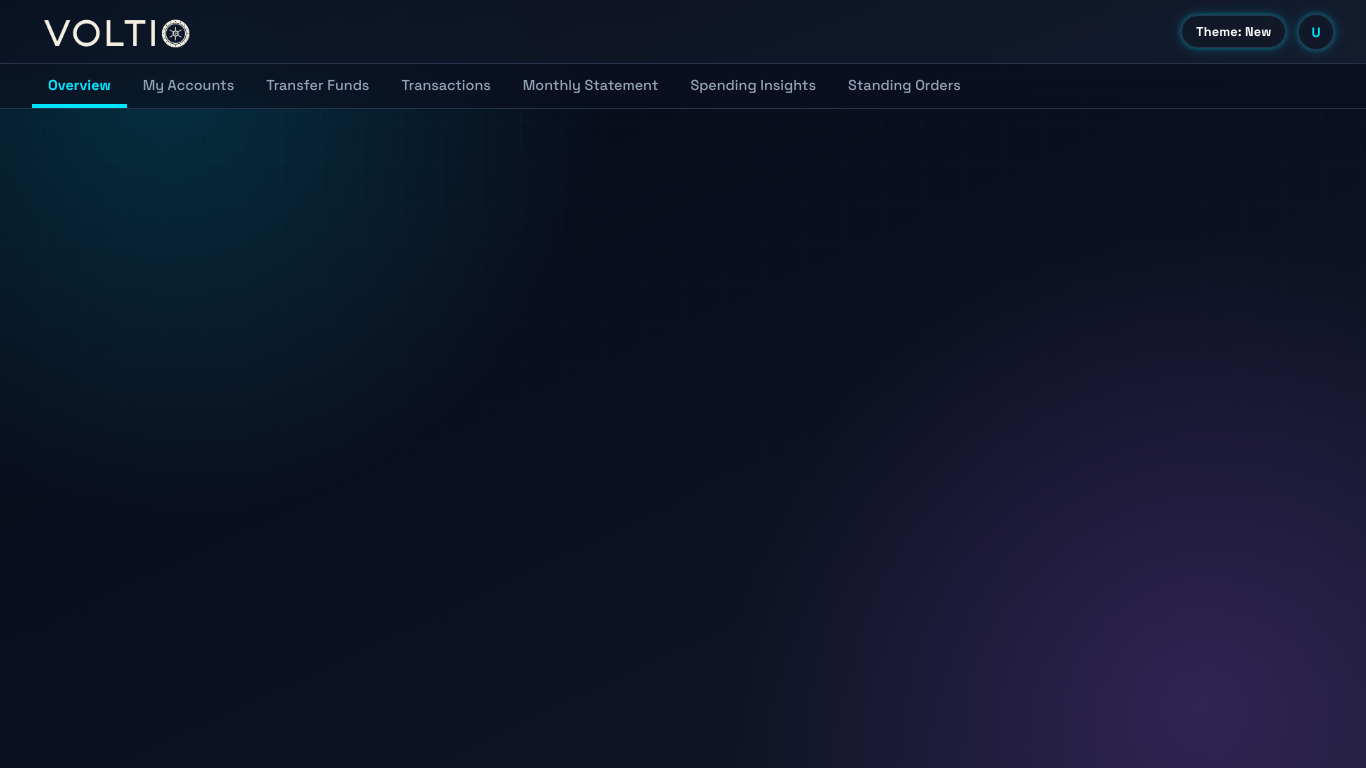
Test: Navbar and Sub-Navbar (AppLayout) › feature nav buttons — no active account (opens account picker) › closes the picker modal when the Close button is clicked
Click the button "Transactions": (446, 86) [385,64,507,108]
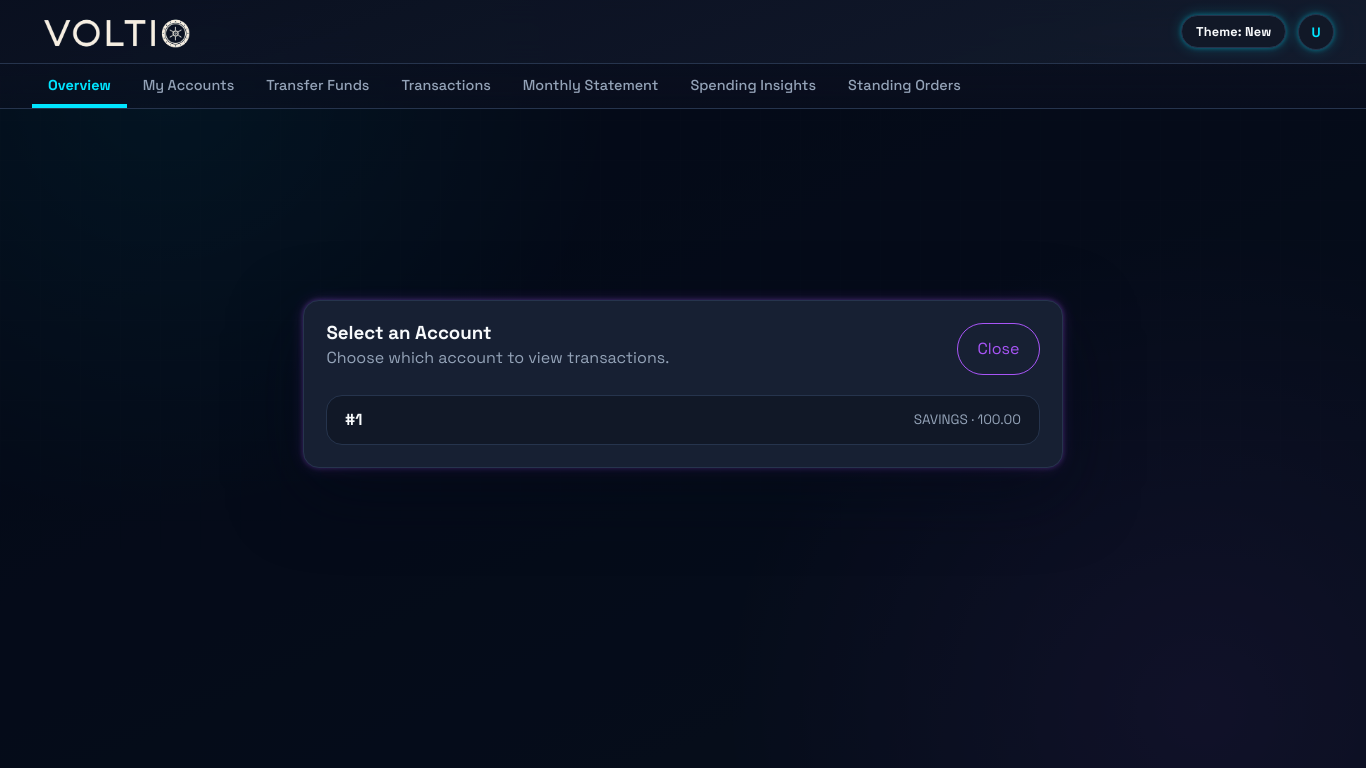
expect the dialog is shown: met, box [303,300,1063,468]
Click the button "Close": (998, 349) [957,323,1040,375]
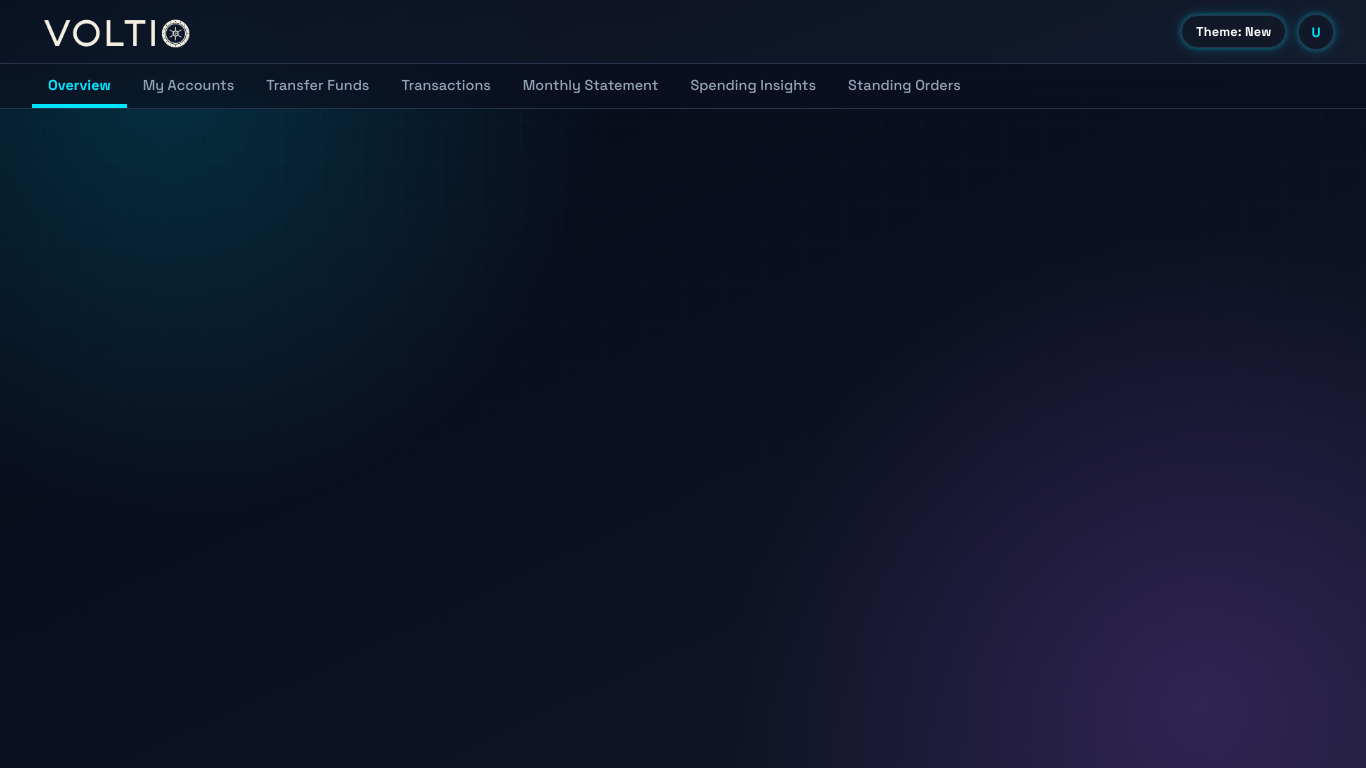
expect the dialog is gone: met
